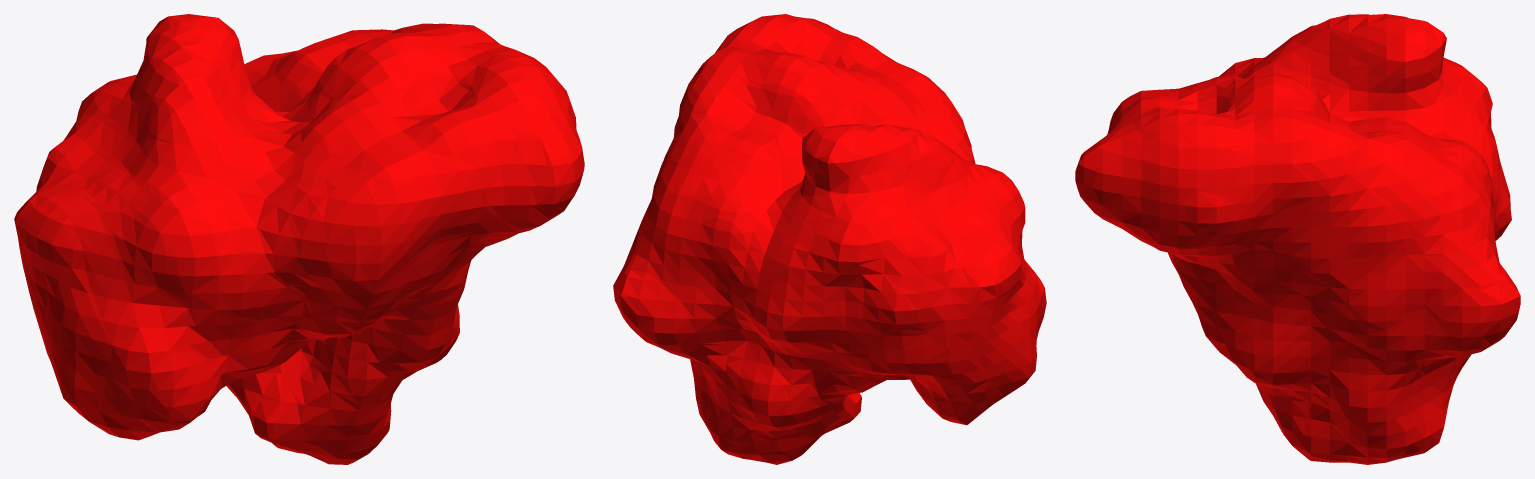
Rendered from yjhC_coarse.dae.
3 views of the same model, side by side, from view 1: azimuth 30°, elevation 25°; view 2: azimuth 150°, elevation 25°; view 3: azimuth 270°, elevation 25° (orthographic). The views are drawn at different scales.
Parts seen in each view (by area): view 1: yjhC; view 2: yjhC; view 3: yjhC.
Part boxes in pixels (box(x1,y1,x2,y2)): yjhC: box(14, 14, 584, 464); yjhC: box(613, 14, 1046, 464); yjhC: box(1075, 14, 1520, 464).
Bounding box in the file's own units: 60.62 × 56.96 × 58.03.
